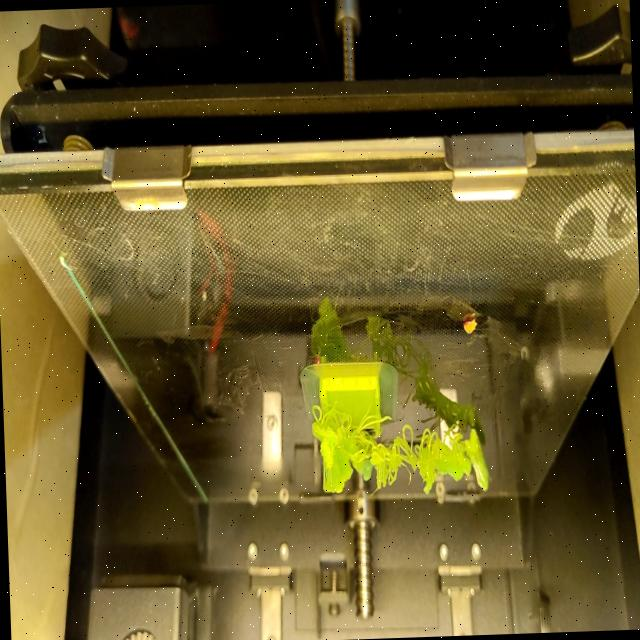spaghetti: (304, 402, 470, 501)
